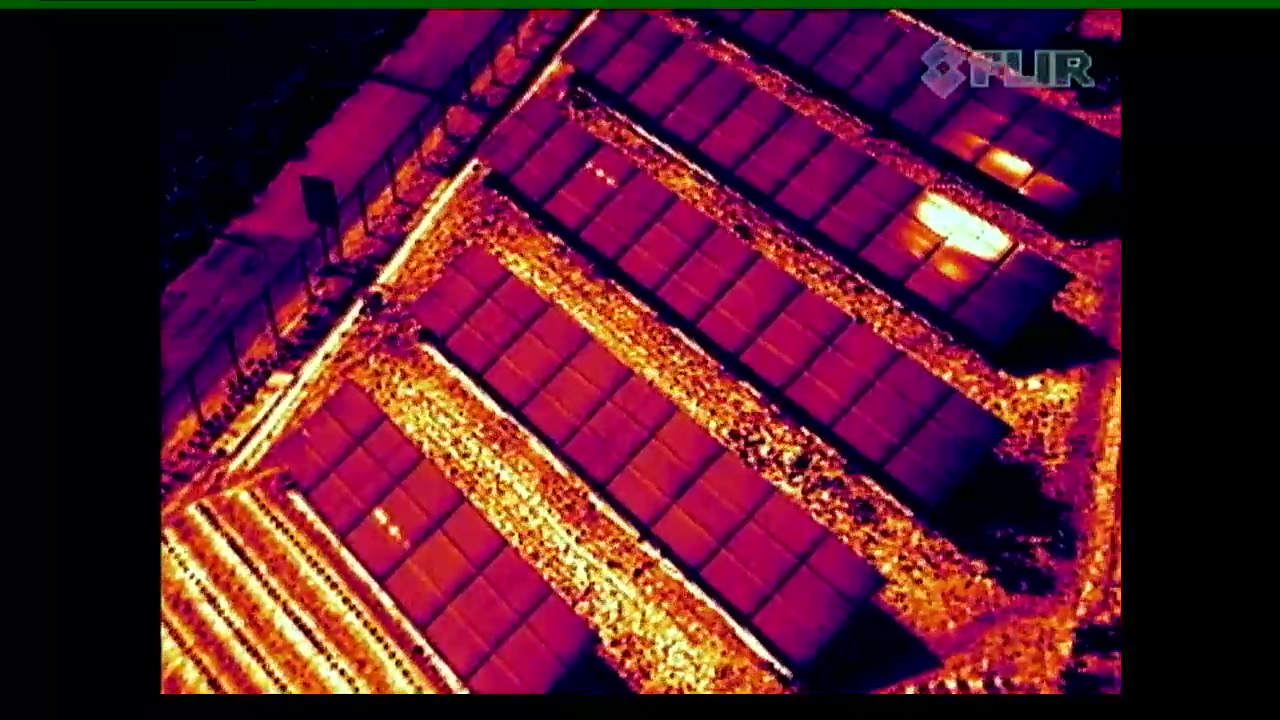hotspot: (333, 456, 464, 573), (535, 143, 644, 230)
